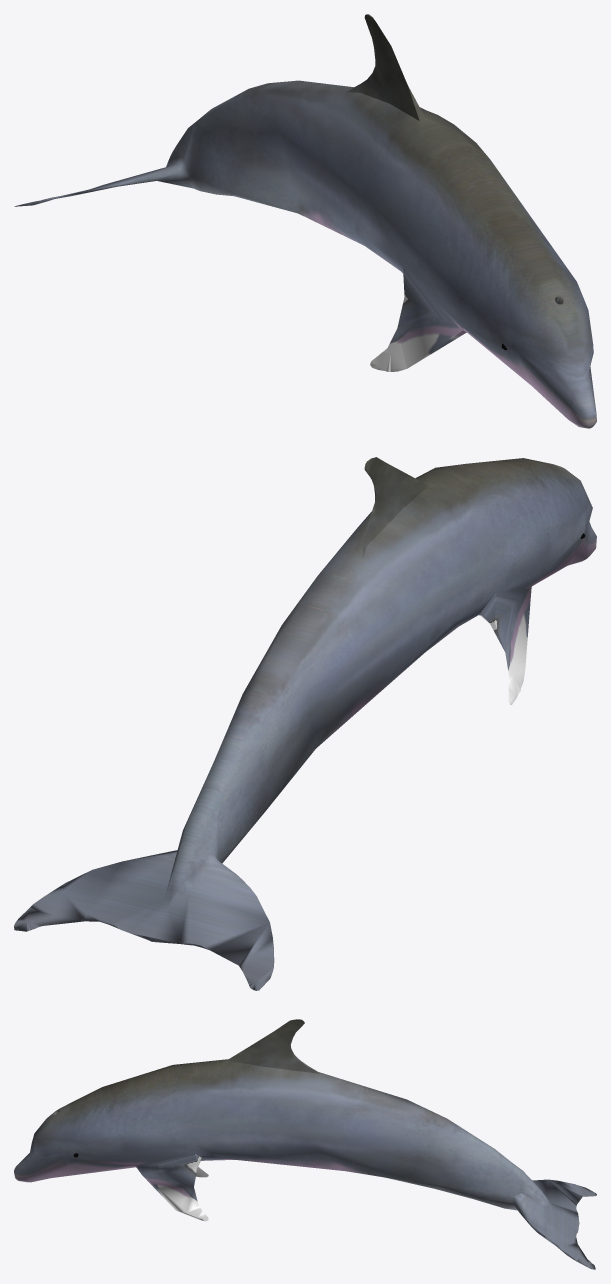
File: dophin.FBX
3 renders of one model, top to bottom at view 1: azimuth 30°, elevation 25°; view 2: azimuth 150°, elevation 25°; view 3: azimuth 270°, elevation 25°, orthographic. The views are drawn at different scales.
Visible parts, largest first — view 1: delfinv0; view 2: delfinv0; view 3: delfinv0.
Part boxes in pixels (x1,y1,x2,y2): delfinv0: (14, 14, 596, 428); delfinv0: (14, 457, 596, 990); delfinv0: (14, 1019, 596, 1269).
Bounding box in the file's own units: 78325 × 98691 × 245445.
2 materials, 1 textured.
